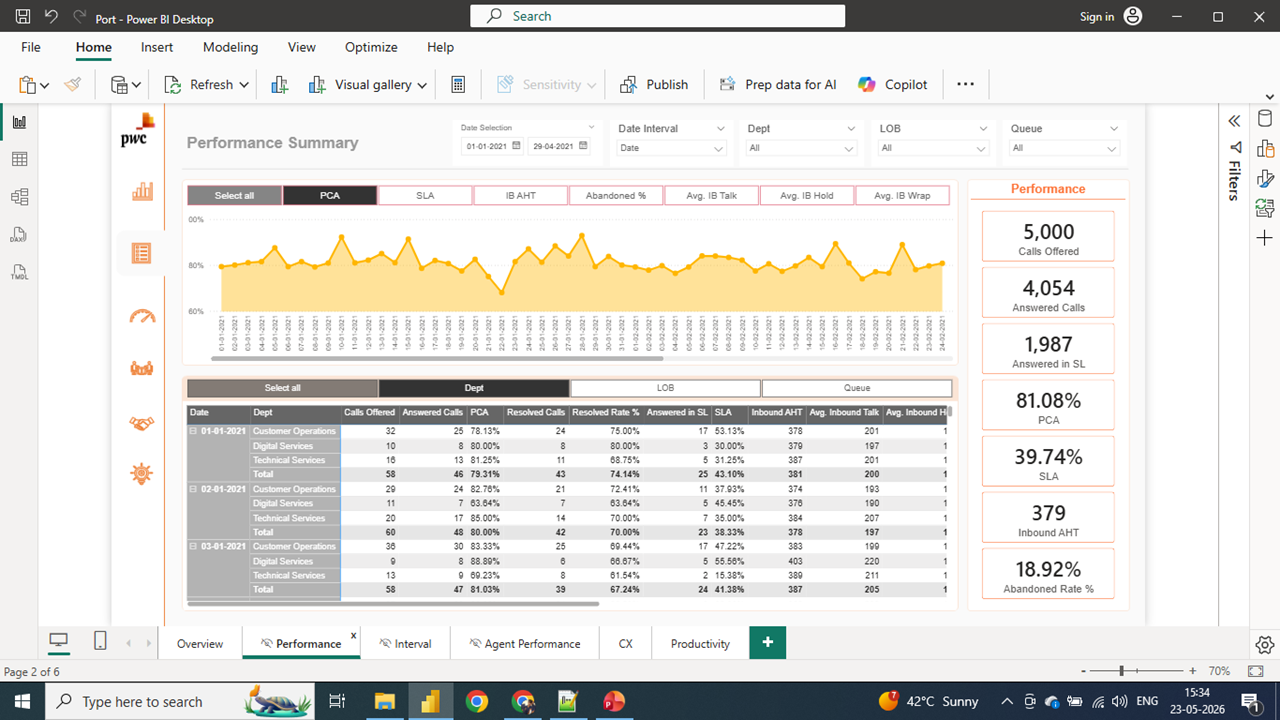

This screenshot's page, from the dashboard's own definition file:
{"tool":"powerbi","page":{"name":"Performance","canvas":[1580,800],"ordinal":1},"visuals":[{"type":"actionButton","box":[0,749.8,81.7,50.2],"z":0},{"type":"slicer","fields":{"Values":["_P_Date_Interval._P_Date_Interval"]},"box":[762.1,25.2,189,70.9],"z":1000},{"type":"textbox","box":[110.4,41.6,292.5,44.4],"z":2000},{"type":"slicer","fields":{"Values":["Dept.Dept Name"]},"box":[961.3,25.2,190.6,70.9],"z":3000},{"type":"slicer","fields":{"Values":["LOB.LOB Name"]},"box":[1162,25.2,190.6,70.9],"z":4000},{"type":"slicer","fields":{"Values":["Queue.Queue Name"]},"box":[1362.8,25.6,189.8,70],"z":5000},{"type":"cardVisual","title":"Performance","fields":{"Data":["Measures (2).Calls Offered","Measures (2).Answered Calls","Measures (2).Answered in SL","Measures (2).PCA","Measures (2).SLA","Measures (2).Inbound AHT","Measures (2).Abandoned Rate %"]},"box":[1314.7,120.2,237.4,655.2],"z":6000},{"type":"slicer","fields":{"Values":["_P_KPI_Measure._P_KPI_Measure"]},"box":[90.9,119.3,1215.9,44.3],"z":7000},{"type":"lineChart","fields":{"Category":["Date Calendar.Date"],"Y":["Measures (2).PCA"]},"box":[111.4,163.6,1180.7,236.4],"z":8000},{"type":"slicer","fields":{"Values":["Mapping.Mapping"]},"box":[90.7,415.9,1220.3,37.9],"z":9000},{"type":"pivotTable","fields":{"Rows":["Date Calendar.Date","Dept.Dept Name"],"Values":["Measures (2).Calls Offered","Measures (2).Answered Calls","Measures (2).PCA","Measures (2).Resolved Calls","Measures (2).Resolved Rate %","Measures (2).Answered in SL","Measures (2).SLA","Measures (2).Inbound AHT","Measures (2).Avg. Inbound Talk","Measures (2).Avg. Inbound Hold","Measures (2).Avg. Inbound Wrap","Measures (2).IB Talk %"]},"box":[110.1,456.9,1182.1,317.9],"z":10000},{"type":"slicer","title":"Date Selection","fields":{"Values":["Date Calendar.Date"]},"box":[521.8,26.4,230.1,70.4],"z":10002},{"type":"image","box":[1.3,11.3,78.3,58.7],"z":10003},{"type":"pageNavigator","box":[0,95.3,85,520.3],"z":10004}]}

Visuals, with their boxes on the page's 1580x800 design canvas (x1, y1, x2, y2). These are canvas units, not pixel positions in the 1280x720 screenshot, which may show the page scaled, cropped or inside an application window:
actionButton: pyautogui.locateOnScreen(0, 750, 82, 800)
slicer - _P_Date_Interval._P_Date_Interval: pyautogui.locateOnScreen(762, 25, 951, 96)
textbox: pyautogui.locateOnScreen(110, 42, 403, 86)
slicer - Dept.Dept Name: pyautogui.locateOnScreen(961, 25, 1152, 96)
slicer - LOB.LOB Name: pyautogui.locateOnScreen(1162, 25, 1353, 96)
slicer - Queue.Queue Name: pyautogui.locateOnScreen(1363, 26, 1553, 96)
"Performance" cardVisual: pyautogui.locateOnScreen(1315, 120, 1552, 775)
slicer - _P_KPI_Measure._P_KPI_Measure: pyautogui.locateOnScreen(91, 119, 1307, 164)
lineChart - Date Calendar.Date x Measures (2).PCA: pyautogui.locateOnScreen(111, 164, 1292, 400)
slicer - Mapping.Mapping: pyautogui.locateOnScreen(91, 416, 1311, 454)
pivotTable - Date Calendar.Date x Dept.Dept Name: pyautogui.locateOnScreen(110, 457, 1292, 775)
"Date Selection" slicer: pyautogui.locateOnScreen(522, 26, 752, 97)
image: pyautogui.locateOnScreen(1, 11, 80, 70)
pageNavigator: pyautogui.locateOnScreen(0, 95, 85, 616)
